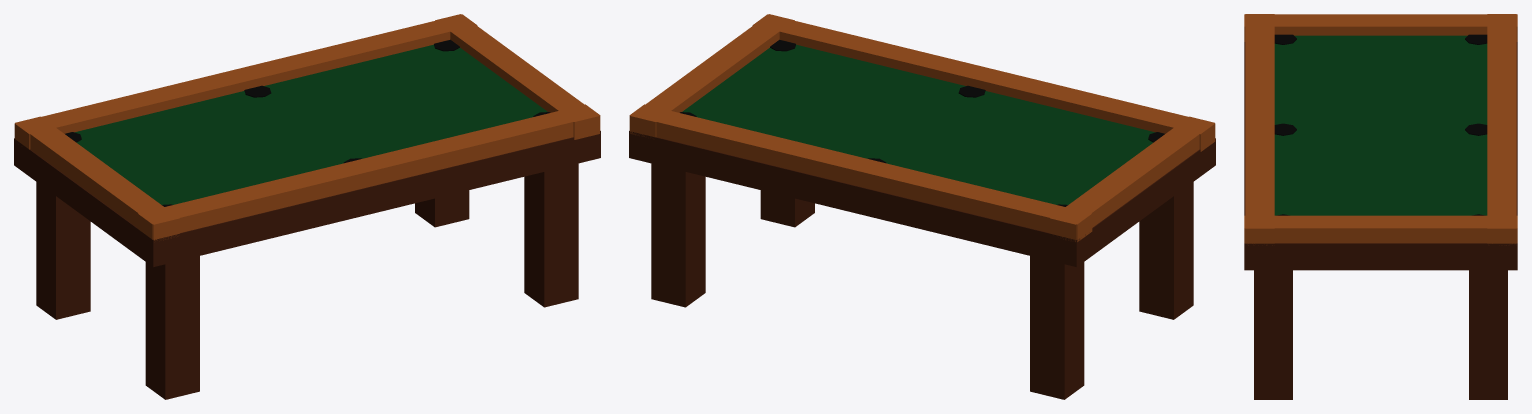
The model's file is pool_table.obj.
3 renders of one model, left to right at view 1: azimuth 30°, elevation 25°; view 2: azimuth 150°, elevation 25°; view 3: azimuth 270°, elevation 25°, orthographic.
Parts seen in each view (by area): view 1: pool_table; view 2: pool_table; view 3: pool_table.
Boxes of the visible parts, x1,y1,x2,y2 form: pool_table: [14, 14, 600, 399]; pool_table: [629, 14, 1215, 399]; pool_table: [1244, 14, 1517, 399].
Size of the model in its own units: 2.6 by 1.01 by 1.4.
